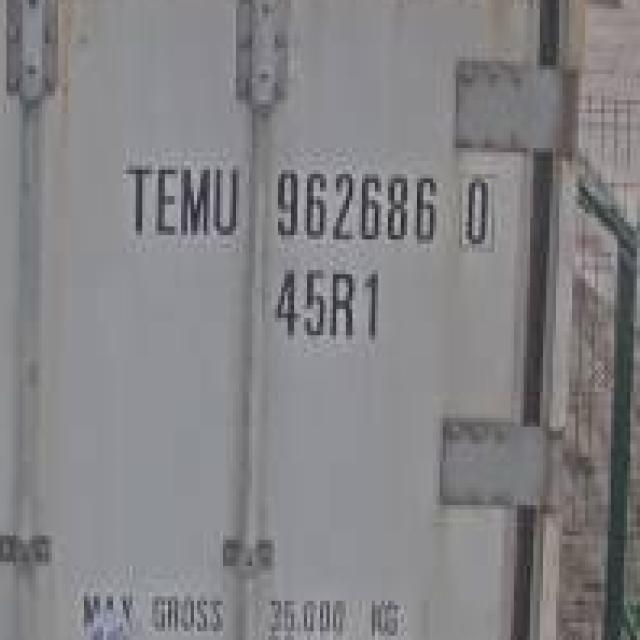dv: (454, 169, 506, 252)
owner: (118, 148, 250, 254)
serial: (268, 160, 447, 253)
size: (268, 259, 388, 353)
